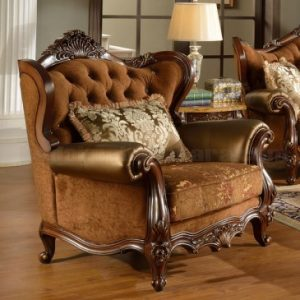Carving Chair: (22, 34, 278, 285)
